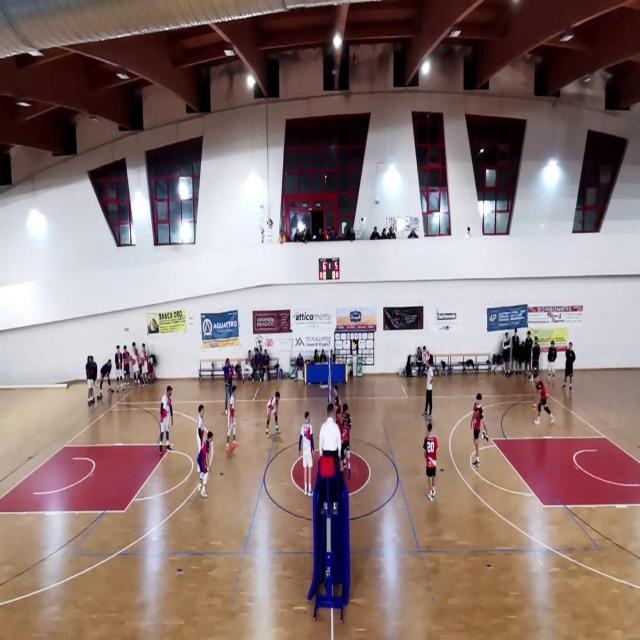volleyball: (532, 404, 536, 411)
